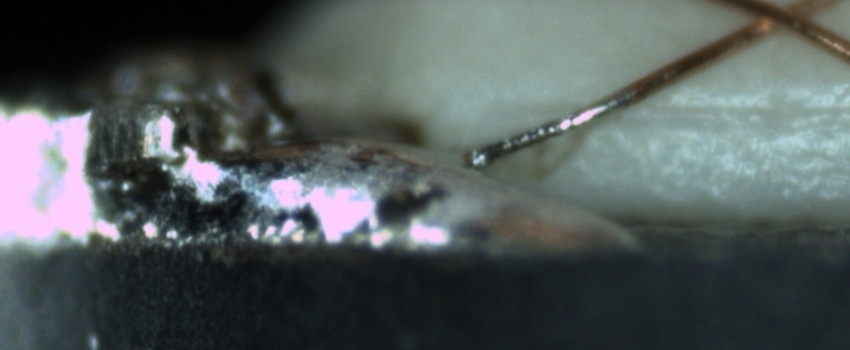CL: (726, 1, 831, 42)
DL: (585, 77, 849, 143)
TS: (466, 90, 633, 168)
TTCW: (462, 63, 676, 166)
